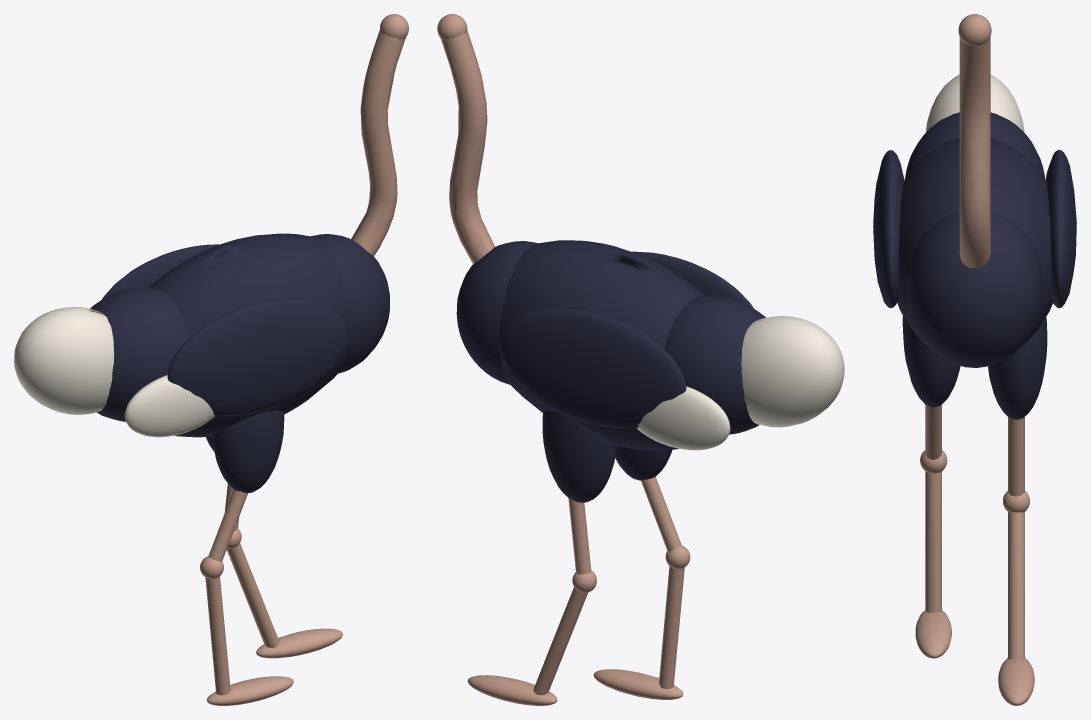
Rendered from ostrich.glb.
3 views of the same model, side by side, from view 1: azimuth 30°, elevation 25°; view 2: azimuth 150°, elevation 25°; view 3: azimuth 270°, elevation 25° (orthographic). The views are drawn at different scales.
Parts seen in each view (by area): view 1: ostrich; view 2: ostrich; view 3: ostrich.
Part boxes in pixels (x1,y1,x2,y2): ostrich: (14, 14, 408, 705); ostrich: (437, 14, 844, 705); ostrich: (873, 14, 1076, 705).
Bounding box in the file's own units: 1.73 × 2.68 × 0.6892.
Materials: 3 (1 with a texture image).
